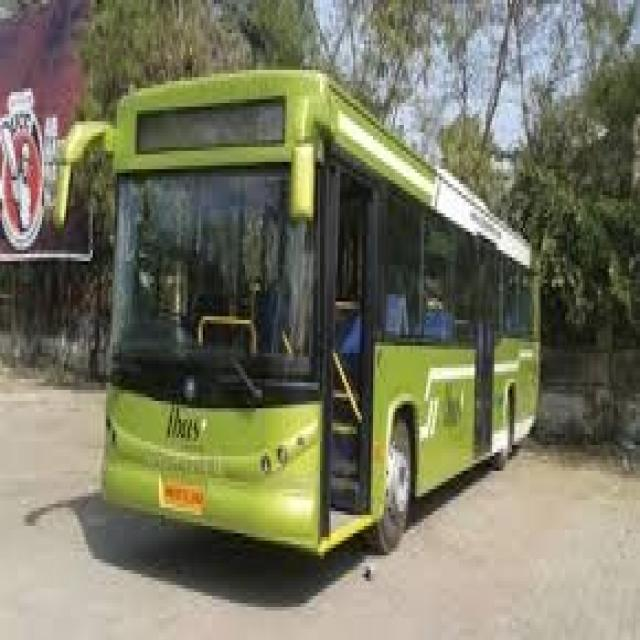bus: (103, 74, 543, 560)
